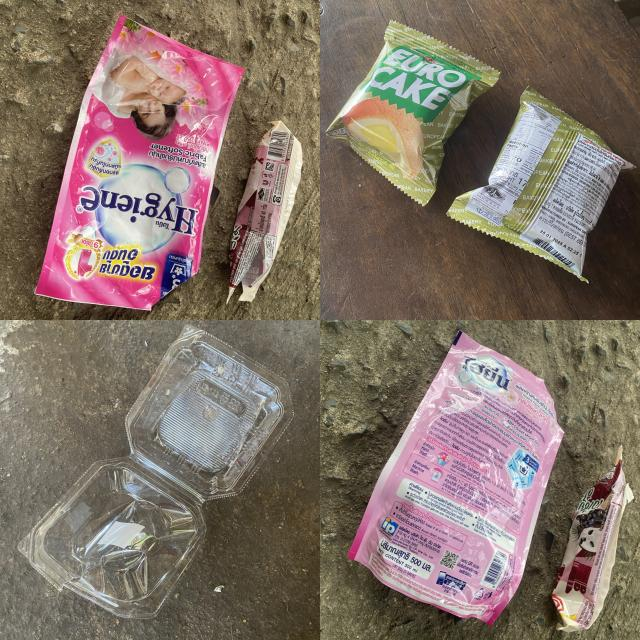Single-Use-Plastic: (19, 326, 292, 618)
